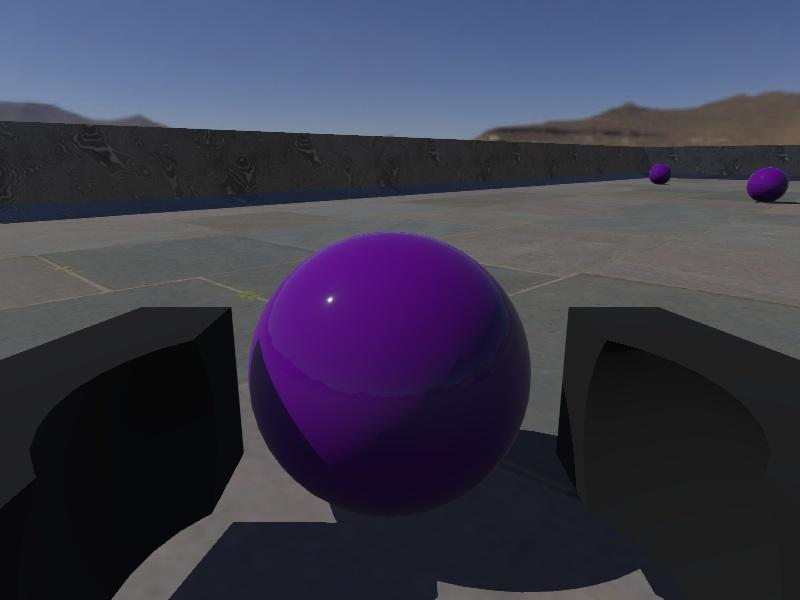violet ball: (247, 231, 532, 518), (747, 165, 787, 203), (648, 163, 673, 186)
